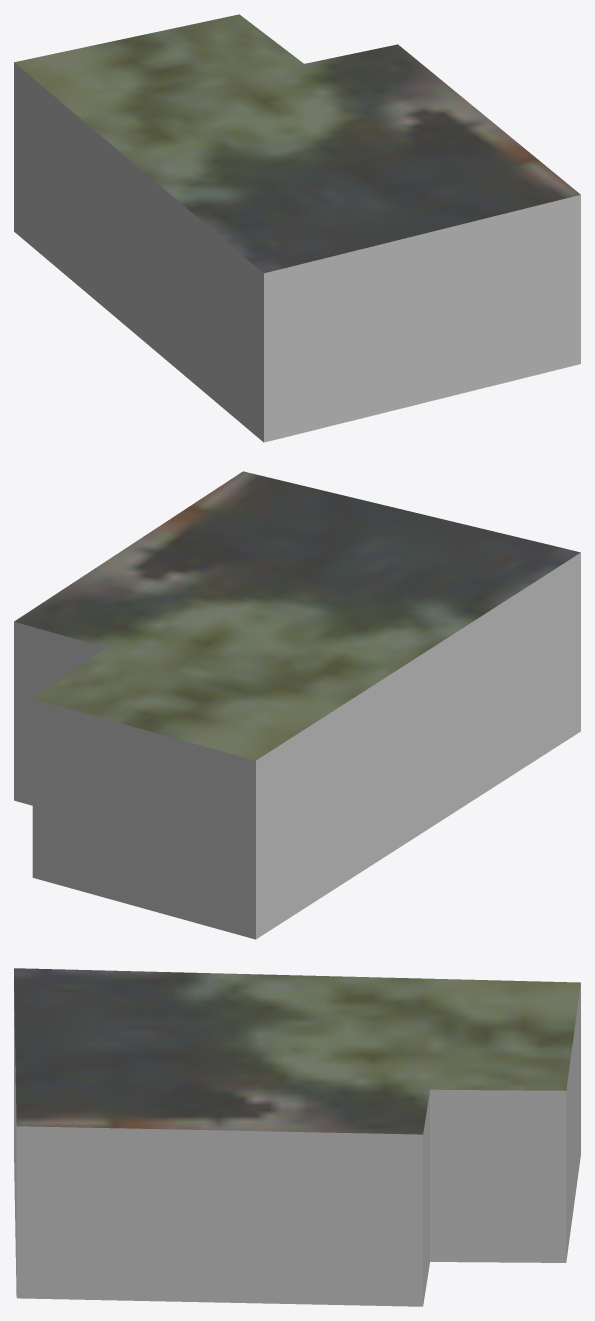
File: DEBW_0010007Txgv.gltf
The picture shows the model from 3 angles, top to bottom: view 1: azimuth 30°, elevation 25°; view 2: azimuth 150°, elevation 25°; view 3: azimuth 270°, elevation 25°; orthographic projection. The views are drawn at different scales.
Visible parts, largest first — view 1: Z_UP; view 2: Z_UP; view 3: Z_UP.
Boxes of the visible parts, x1,y1,x2,y2 form: Z_UP: [14, 14, 580, 442]; Z_UP: [14, 471, 580, 939]; Z_UP: [14, 968, 580, 1306].
Bounding box in the file's own units: 6.16 × 2.97 × 8.87.
Materials: 2 (1 with a texture image).
